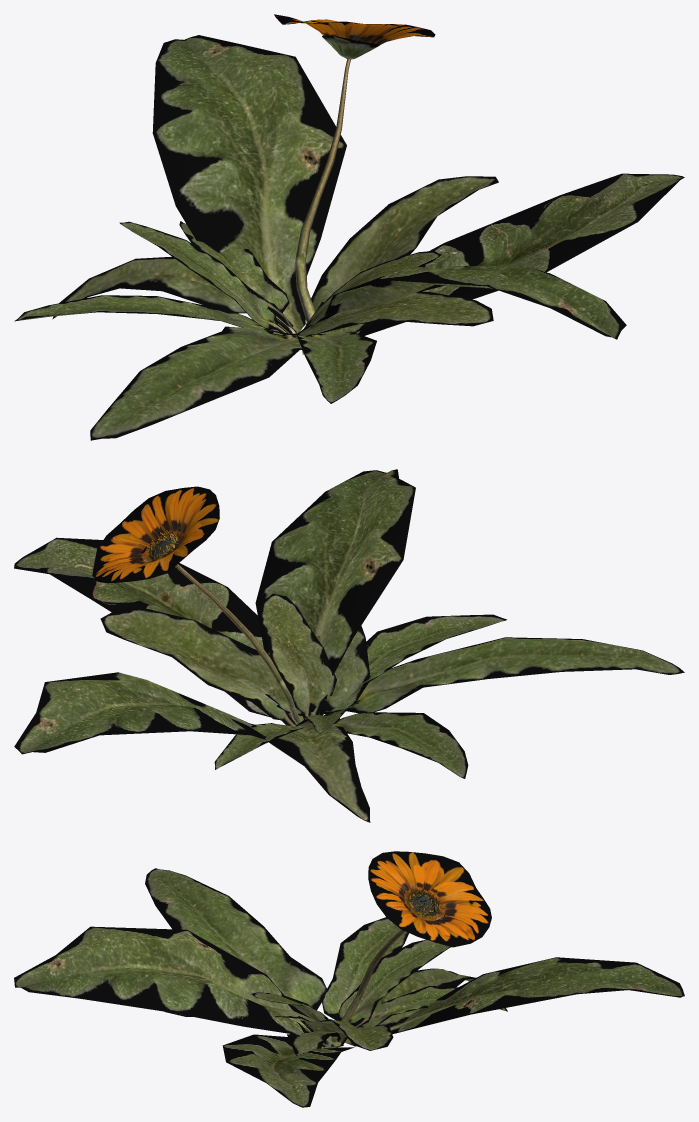
Rendered from flower_gazania_3.gltf.
3 views of the same model, one above another, from view 1: azimuth 30°, elevation 25°; view 2: azimuth 150°, elevation 25°; view 3: azimuth 270°, elevation 25° (orthographic). The views are drawn at different scales.
Visible parts, largest first — view 1: flower_gazania_d_LOD0; view 2: flower_gazania_d_LOD0; view 3: flower_gazania_d_LOD0.
Boxes of the visible parts, box(x1,y1,x2,y2) form: flower_gazania_d_LOD0: box(14, 14, 684, 440); flower_gazania_d_LOD0: box(14, 469, 684, 822); flower_gazania_d_LOD0: box(14, 851, 684, 1107).
Bounding box in the file's own units: 0.2457 × 0.0998 × 0.2664.
Materials: 1 (1 with a texture image).
